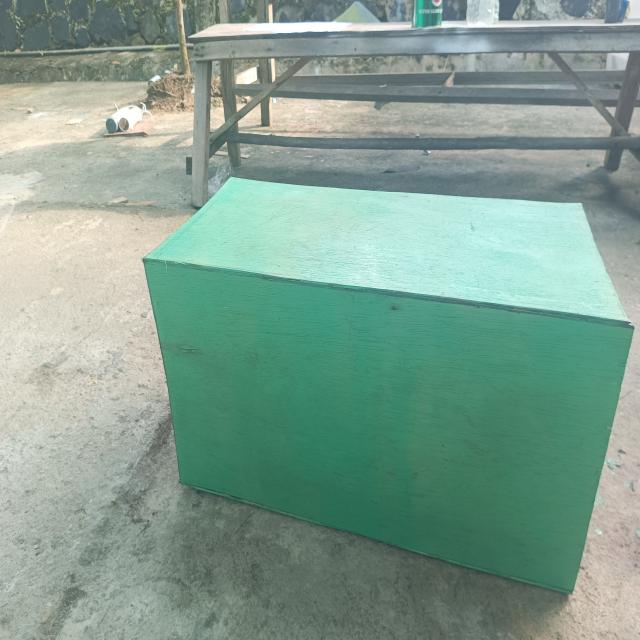green_box: (116, 161, 632, 614)
